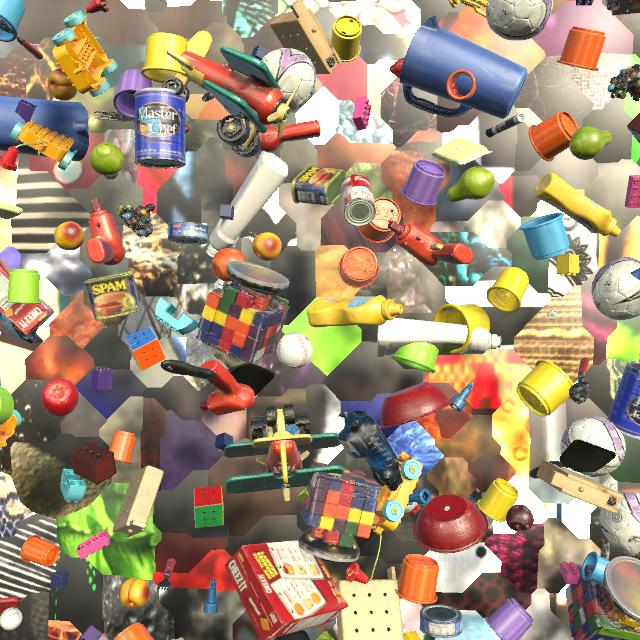ycb_002_master_chef_can: (134, 87, 186, 169), (607, 361, 640, 440)
ycb_003_cracker_box: (224, 540, 348, 640), (0, 258, 54, 335)
ycb_005_tomato_soup_can: (340, 173, 376, 226)
ycb_006_mustard_bottle: (534, 173, 621, 237), (307, 295, 403, 328)
ycb_007_tuna_fish_can: (420, 604, 463, 638), (168, 222, 209, 244)
ycb_010_potted_meat_can: (84, 271, 141, 320), (291, 165, 346, 206)
ycb_012_strawberry: (389, 57, 405, 78)
ycb_013_apple: (41, 379, 79, 417)
ycb_015_peach: (48, 68, 77, 101), (119, 578, 150, 608), (54, 221, 85, 250), (252, 232, 282, 261)
ycb_016_pear: (447, 167, 495, 202), (569, 126, 612, 160), (90, 143, 124, 180)
ycb_017_orange: (212, 248, 247, 282), (267, 542, 274, 543)
ycb_018_plum: (506, 504, 534, 531)
